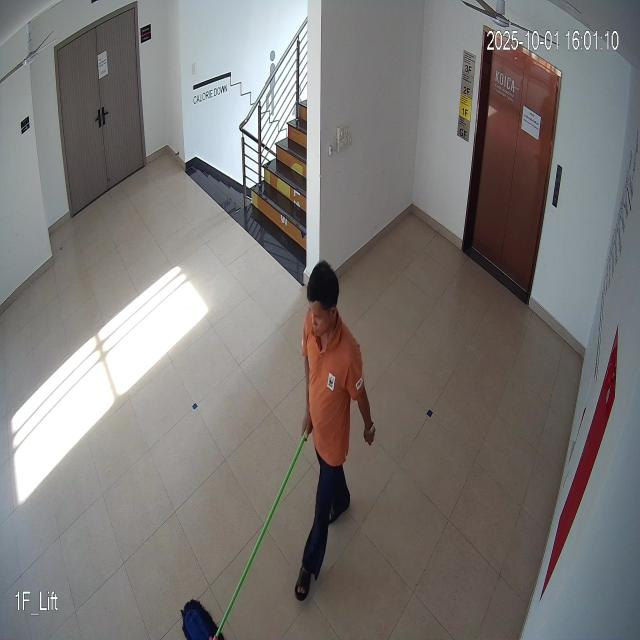face: (302, 258, 340, 347)
